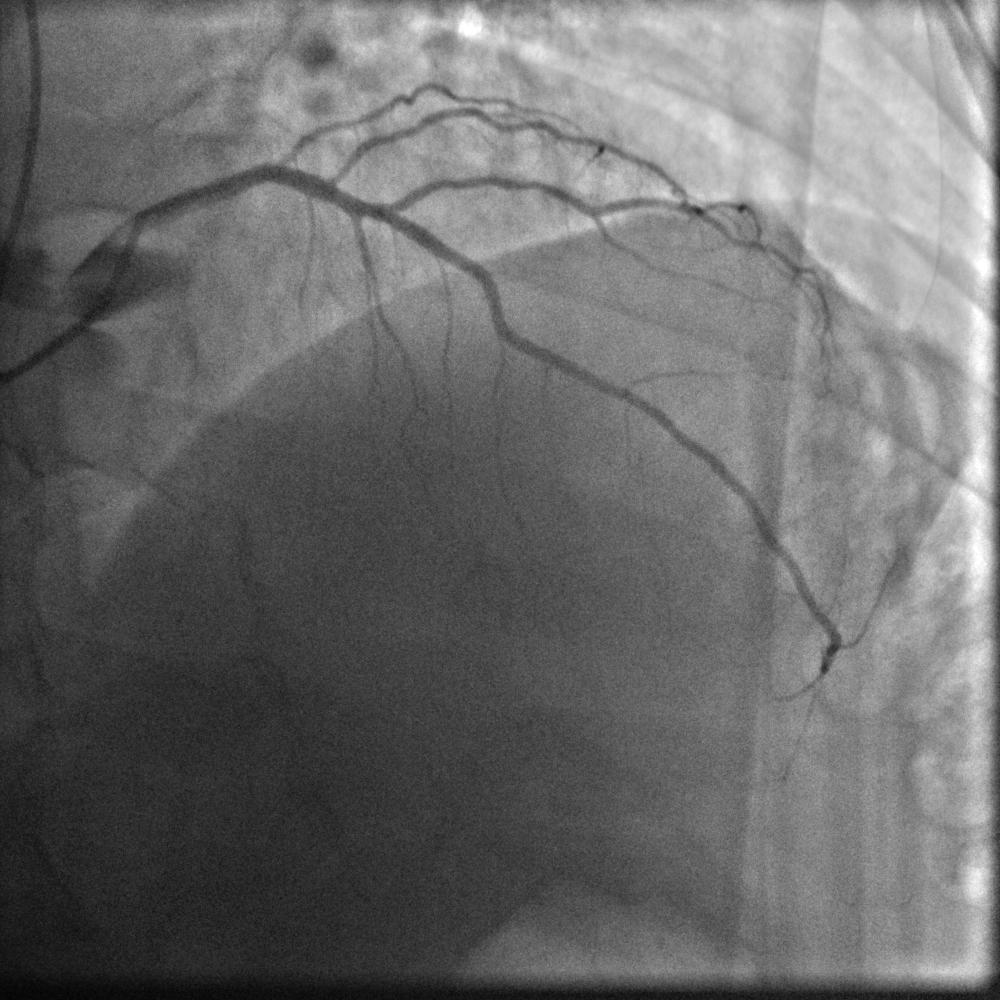Stenosis: (272, 135, 345, 192)
